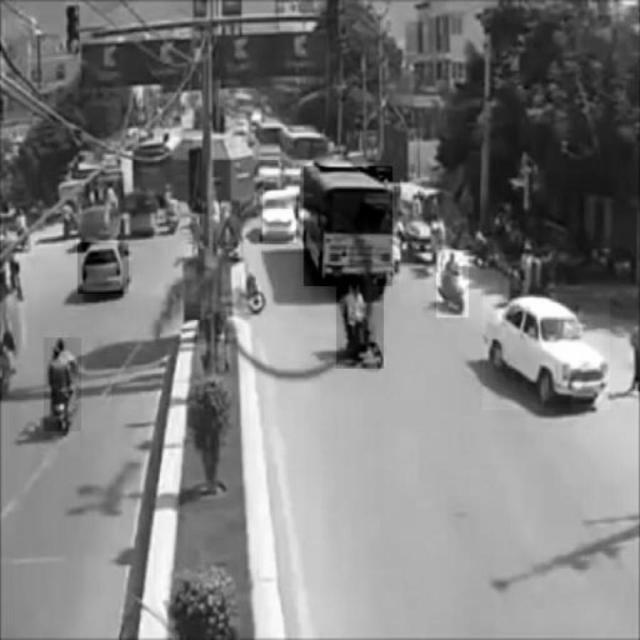vehicle: (482, 294, 610, 410), (305, 167, 393, 287), (337, 284, 384, 368), (45, 338, 82, 431), (78, 243, 129, 294), (437, 250, 469, 317), (263, 190, 297, 242)
